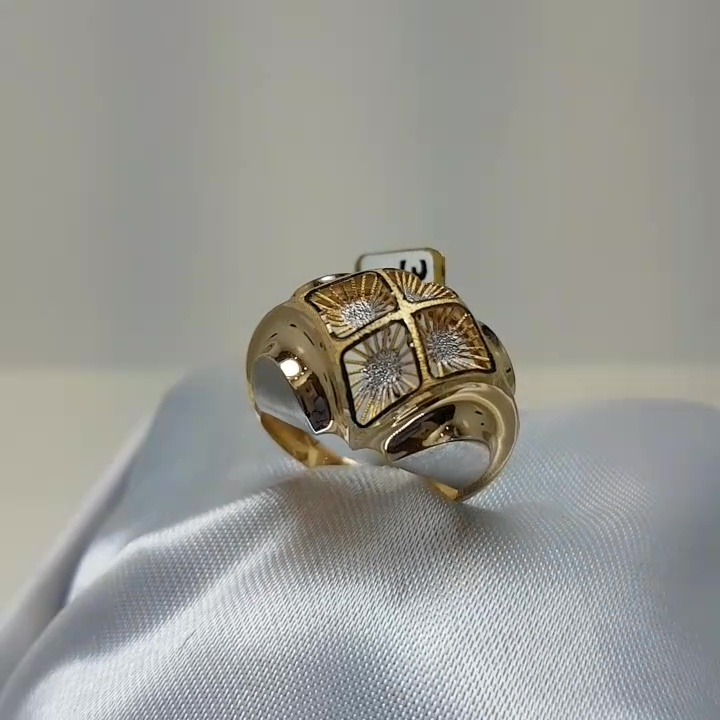Ring 2: (210, 242, 537, 529)
